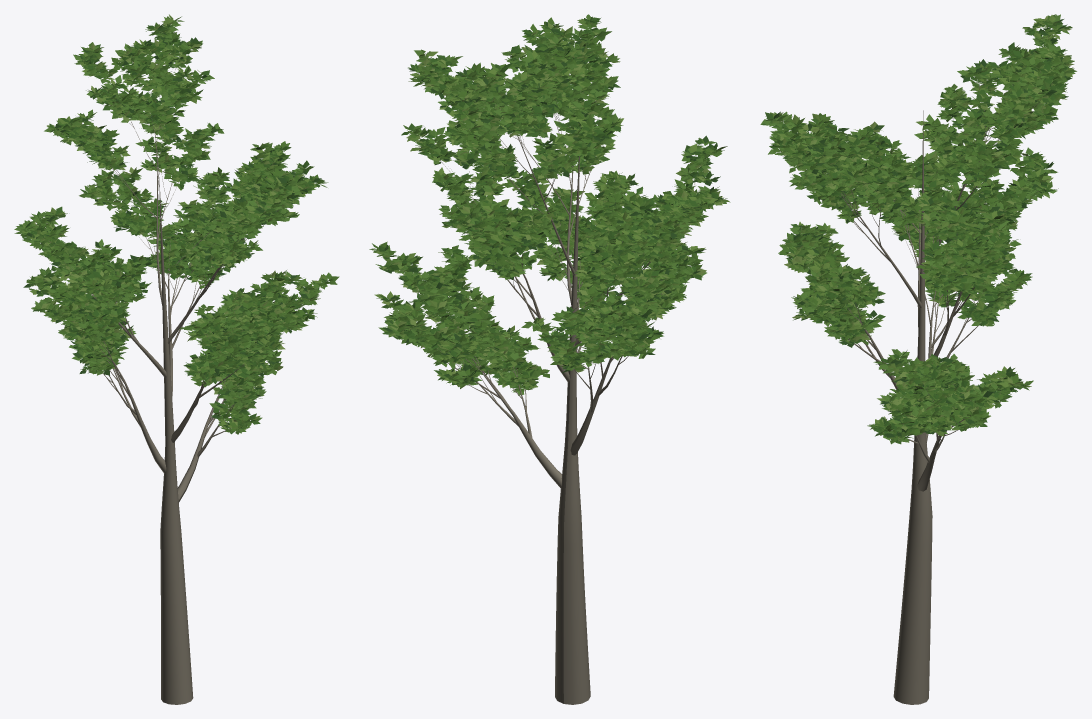
File: tree_08.glb
3 renders of one model, left to right at view 1: azimuth 30°, elevation 25°; view 2: azimuth 150°, elevation 25°; view 3: azimuth 270°, elevation 25°, orthographic. The views are drawn at different scales.
Parts seen in each view (by area): view 1: Tree_08_leaf_clusters, Tree_08_trunk_branches; view 2: Tree_08_leaf_clusters, Tree_08_trunk_branches; view 3: Tree_08_leaf_clusters, Tree_08_trunk_branches.
Part boxes in pixels (x1,y1,x2,y2): Tree_08_leaf_clusters: (14, 14, 339, 434); Tree_08_trunk_branches: (40, 35, 316, 704); Tree_08_leaf_clusters: (369, 14, 730, 395); Tree_08_trunk_branches: (391, 29, 694, 704); Tree_08_leaf_clusters: (760, 14, 1076, 444); Tree_08_trunk_branches: (801, 36, 1052, 704).
Bounding box in the file's own units: 5.42 × 10.11 × 4.3.
